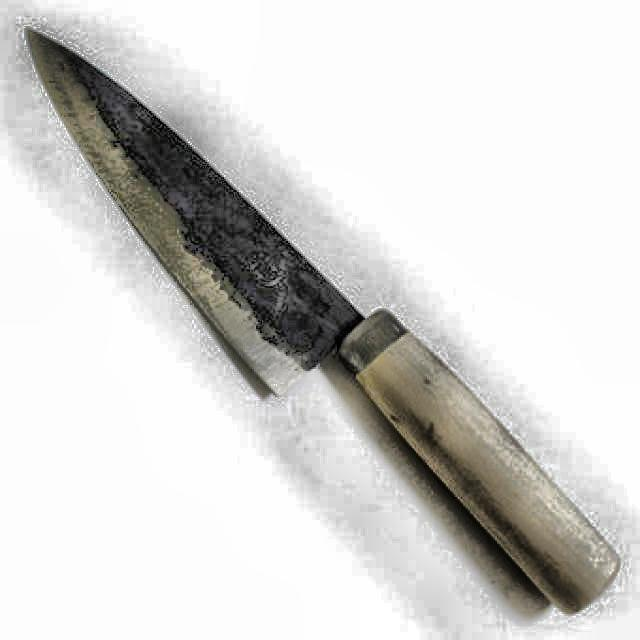knife: (22, 24, 621, 616)
